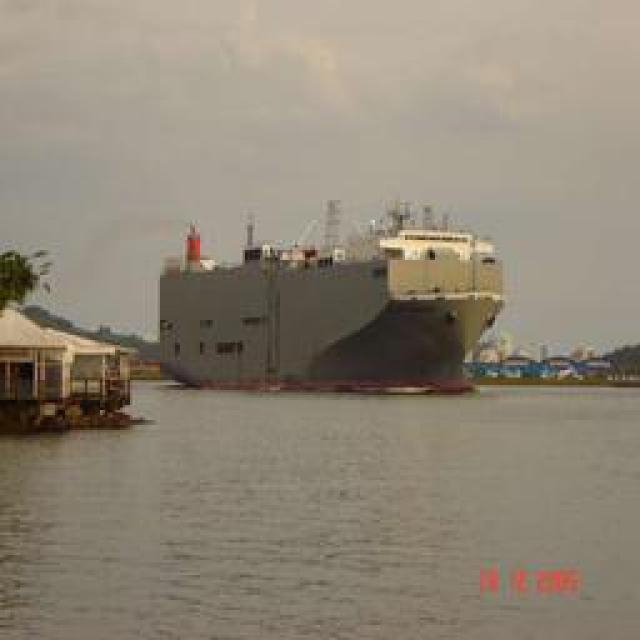Ship: (151, 227, 510, 397)
